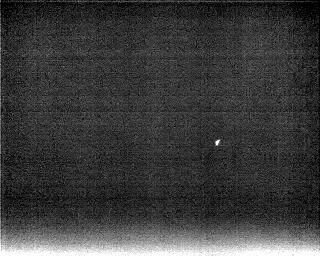BIRD: (213, 136, 223, 149)
